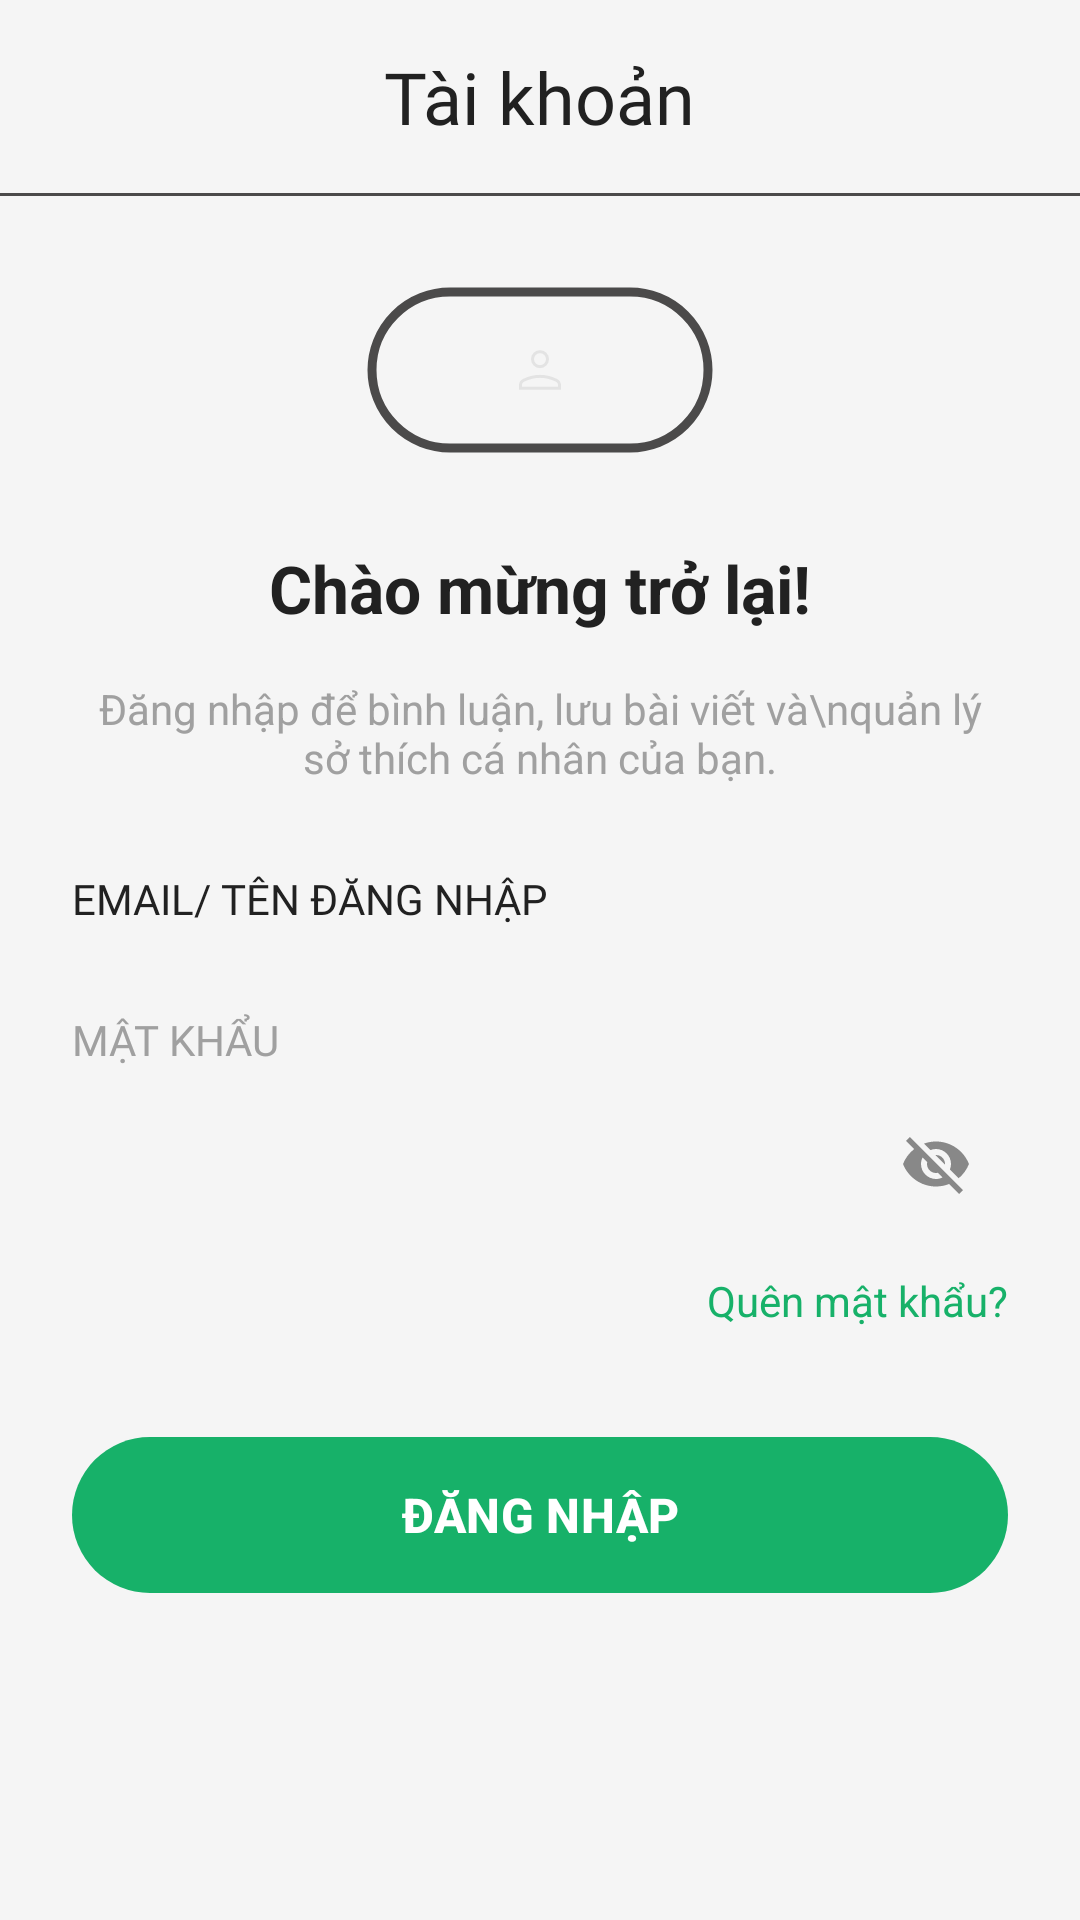

Icons on this 1080×1920 Android screen, each with the point to tap as (x,y):
user: (540,370)
